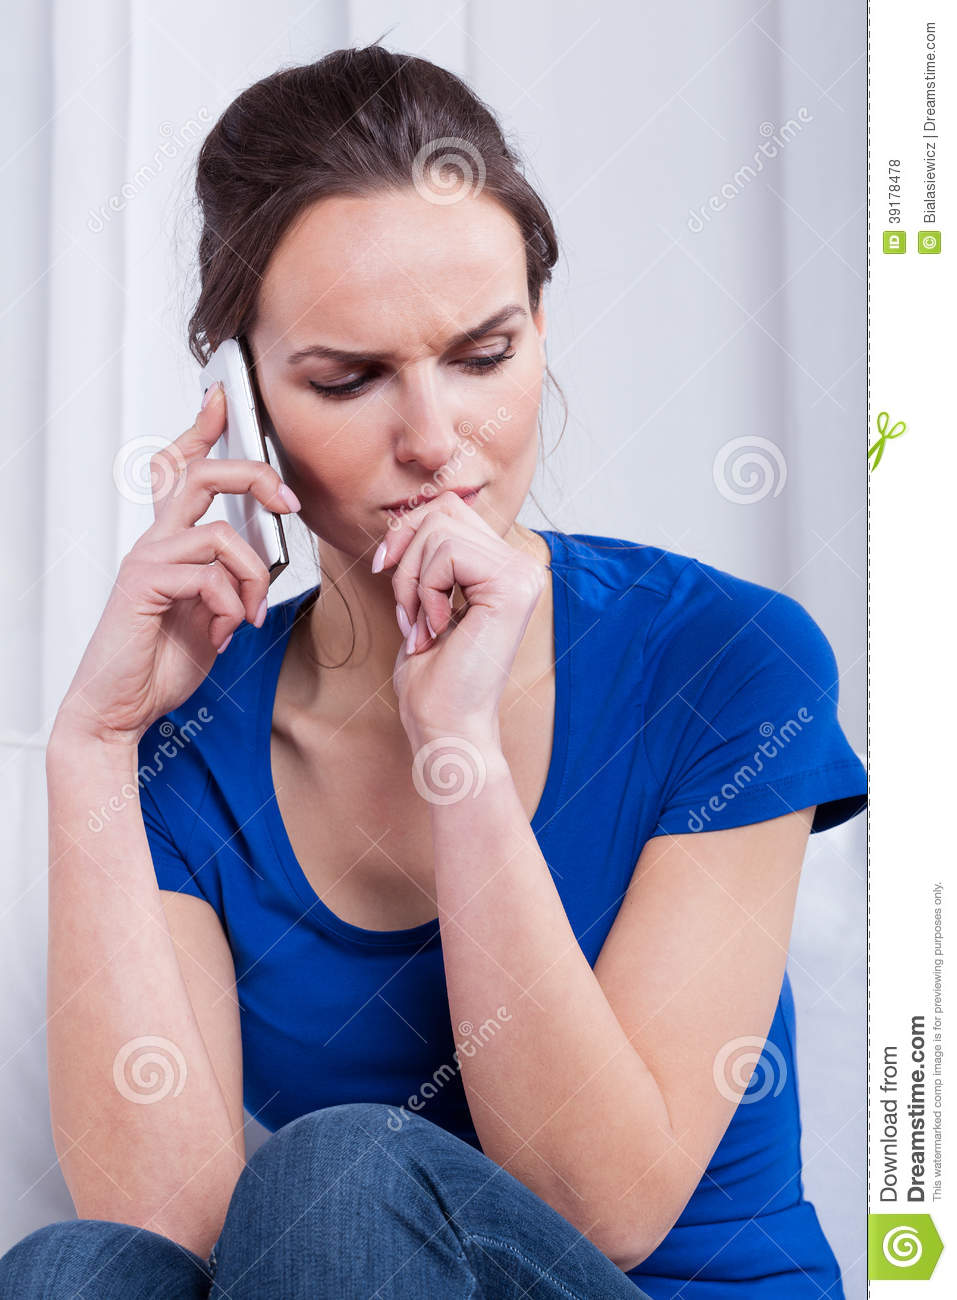phone: (187, 343, 291, 588)
talk: (54, 284, 543, 743)
